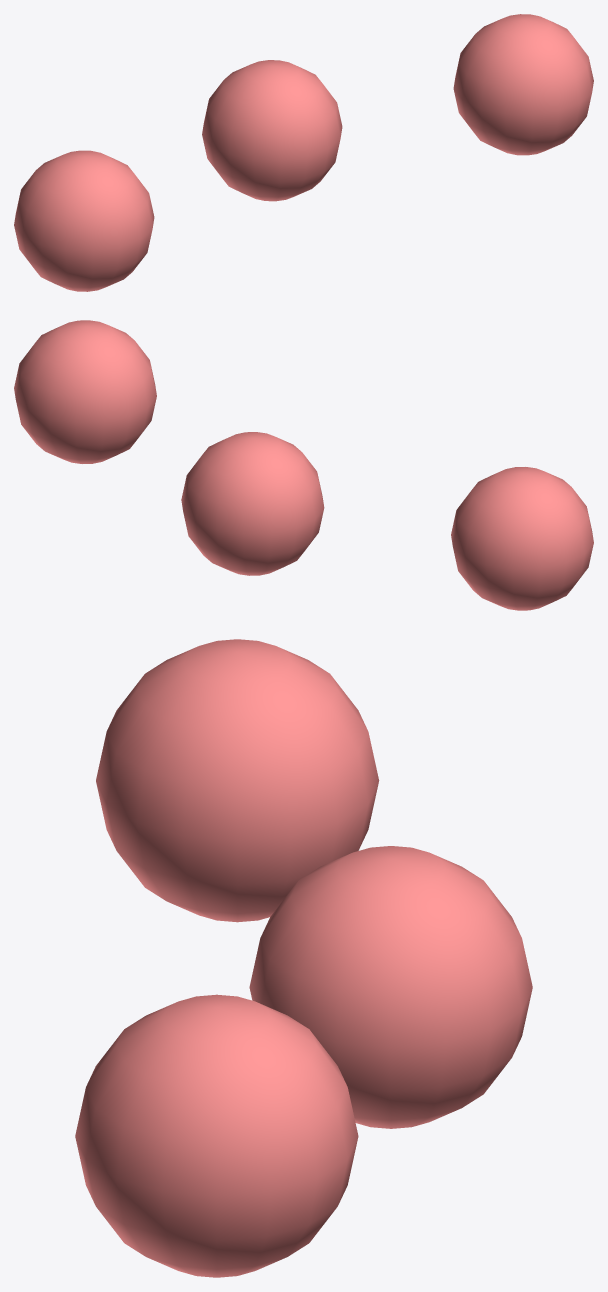
The model's file is balls_back.glb.
3 views of the same model, one above another, from view 1: azimuth 30°, elevation 25°; view 2: azimuth 150°, elevation 25°; view 3: azimuth 270°, elevation 25° (orthographic). The views are drawn at different scales.
Visible parts, largest first — view 1: Sphere001, Sphere001.002, Sphere001.001; view 2: Sphere001.001, Sphere001, Sphere001.002; view 3: Sphere001.002, Sphere001, Sphere001.001.
Boxes of the visible parts, left/top/right/bottom form: Sphere001: left=14, top=150, right=154, bottom=291; Sphere001.002: left=453, top=14, right=593, bottom=155; Sphere001.001: left=202, top=60, right=342, bottom=201; Sphere001.001: left=181, top=432, right=324, bottom=575; Sphere001: left=451, top=467, right=593, bottom=610; Sphere001.002: left=14, top=320, right=156, bottom=463; Sphere001.002: left=75, top=994, right=358, bottom=1277; Sphere001: left=96, top=639, right=379, bottom=922; Sphere001.001: left=249, top=846, right=532, bottom=1128.
Bounding box in the file's own units: 0.0422 × 0.0118 × 0.015.
